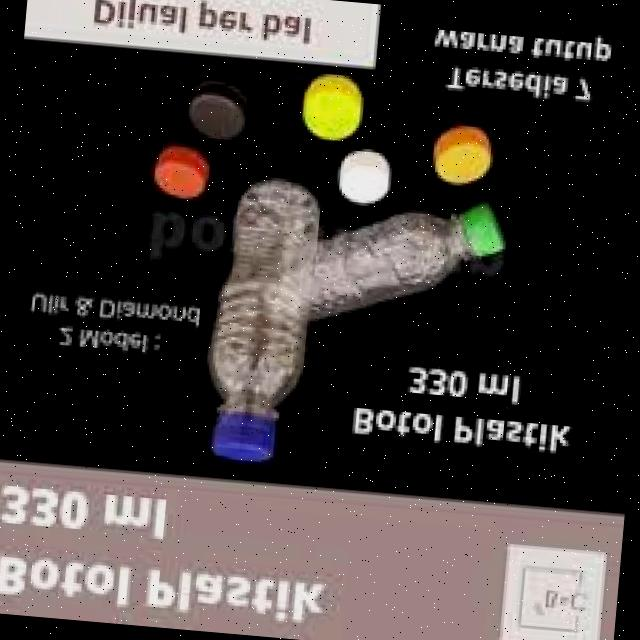bottle: (148, 165, 358, 491), (245, 172, 542, 390)
cap: (296, 74, 373, 146), (150, 143, 214, 208), (183, 82, 246, 144), (212, 415, 280, 465), (431, 127, 491, 182), (338, 152, 394, 204), (464, 202, 509, 262)
